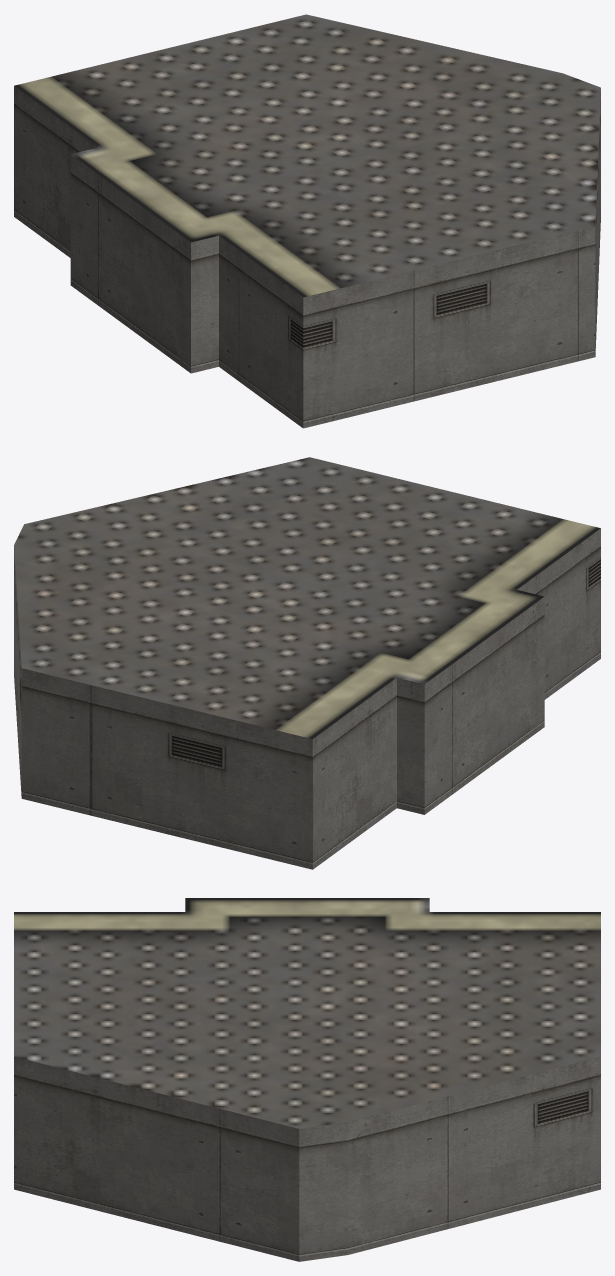
The model's file is building_medium_a_15.glb.
3 views of the same model, one above another, from view 1: azimuth 30°, elevation 25°; view 2: azimuth 150°, elevation 25°; view 3: azimuth 270°, elevation 25° (orthographic).
Parts seen in each view (by area): view 1: buildings/saxarba/building_medium/building_medium_a_15; view 2: buildings/saxarba/building_medium/building_medium_a_15; view 3: buildings/saxarba/building_medium/building_medium_a_15.
Boxes of the visible parts, <box> form: buildings/saxarba/building_medium/building_medium_a_15: <box>14,14,600,428</box>; buildings/saxarba/building_medium/building_medium_a_15: <box>14,457,600,869</box>; buildings/saxarba/building_medium/building_medium_a_15: <box>14,898,600,1261</box>.
Size of the model in its own units: 67 by 18 by 72.
